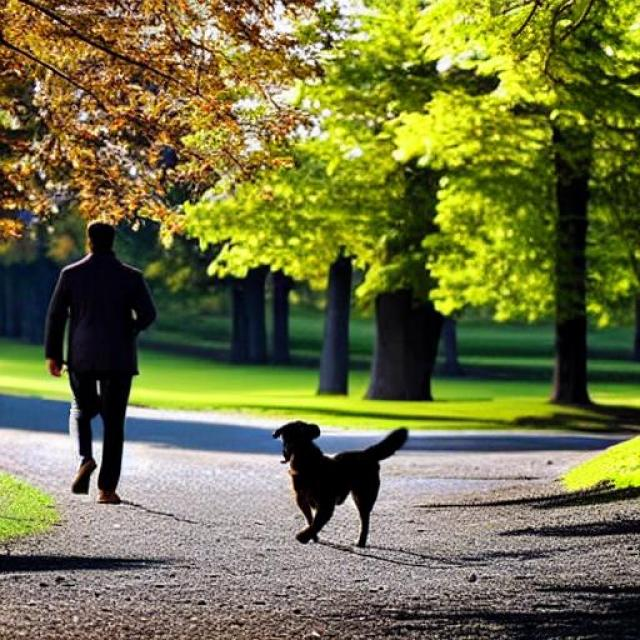Unleashed_Dog: (67, 346, 409, 548)
